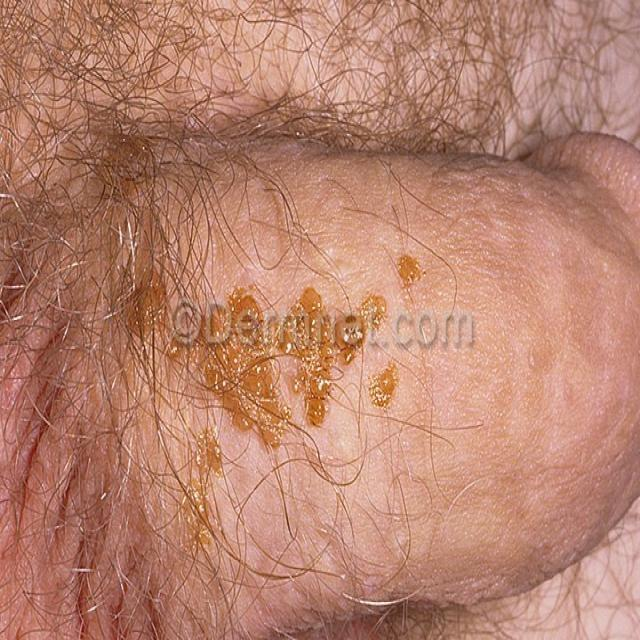Shingles: (118, 249, 424, 554)
